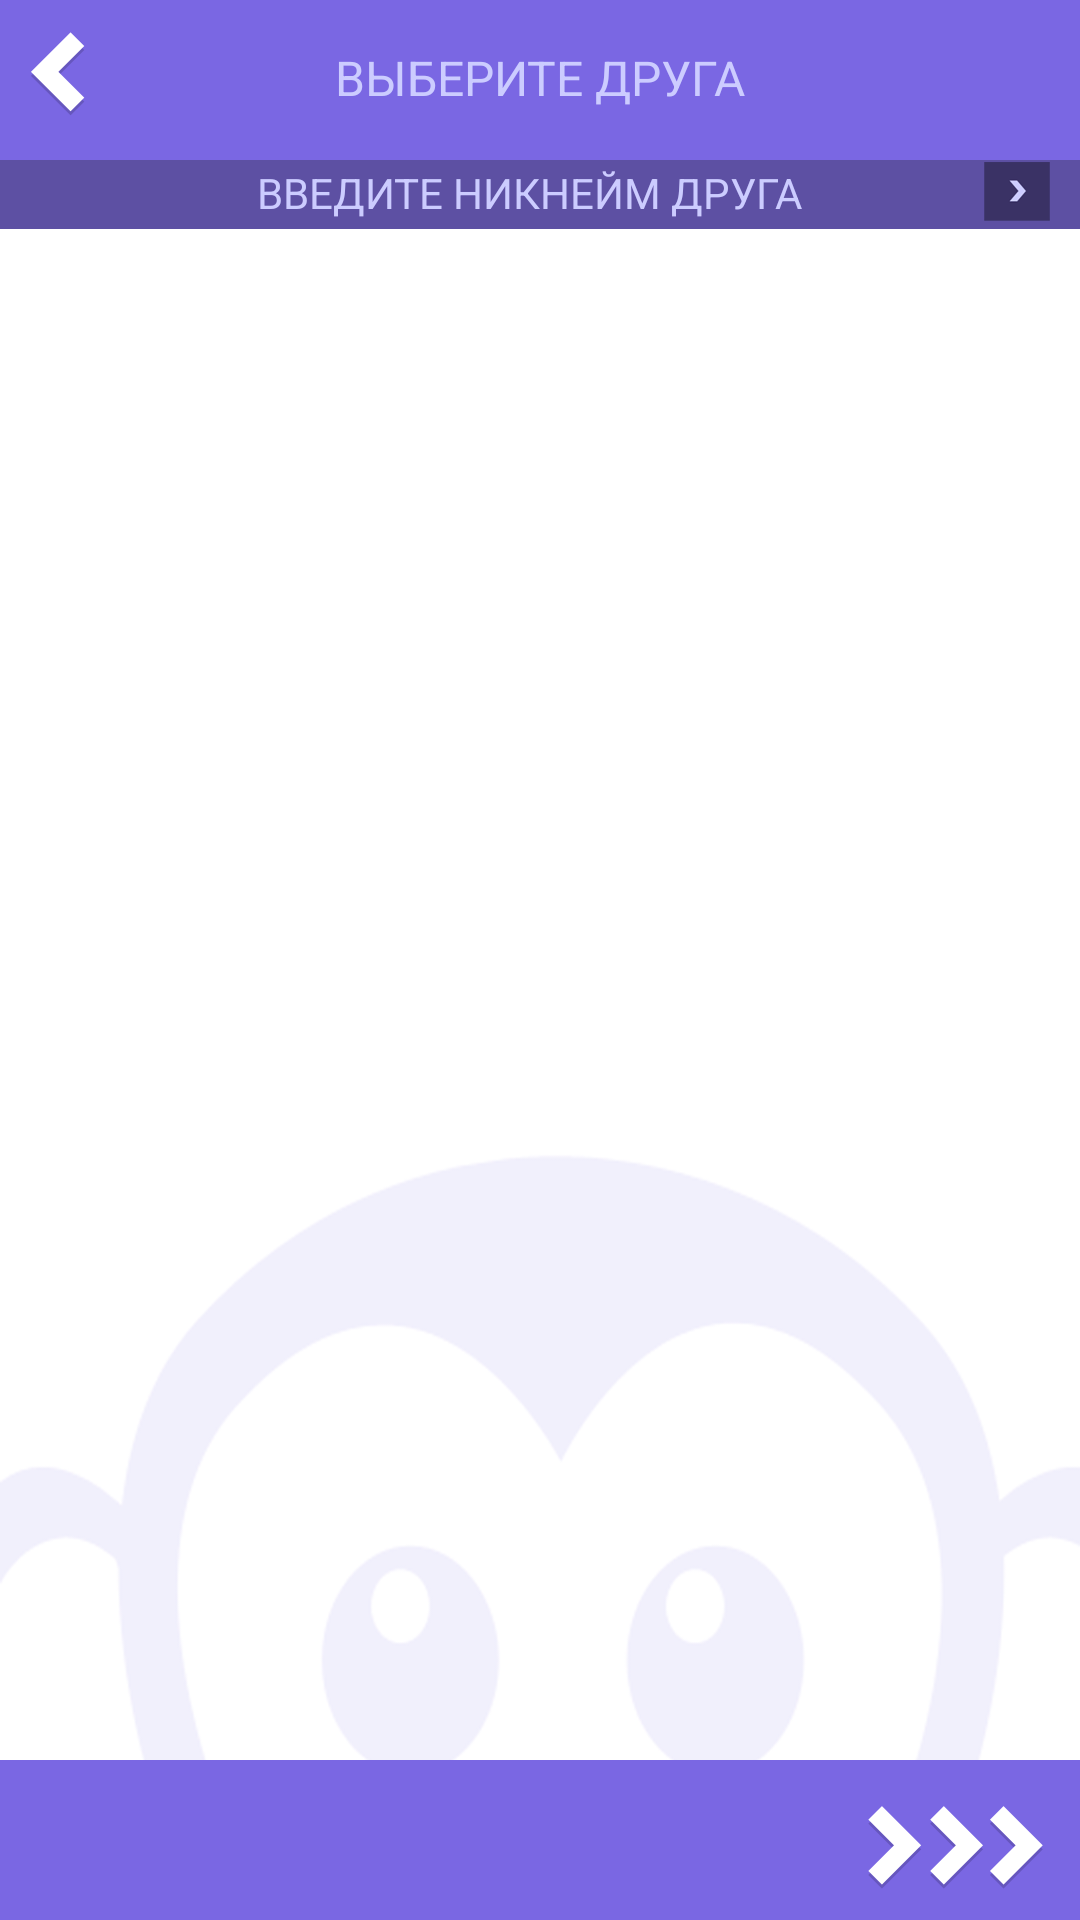

Icon click points for this 1080px x 1920px phone screenshot, format point (x, y):
btnback: point (57, 73)
myfriends form btnconfirm search: point (1017, 191)
prepost form send: point (955, 1847)
